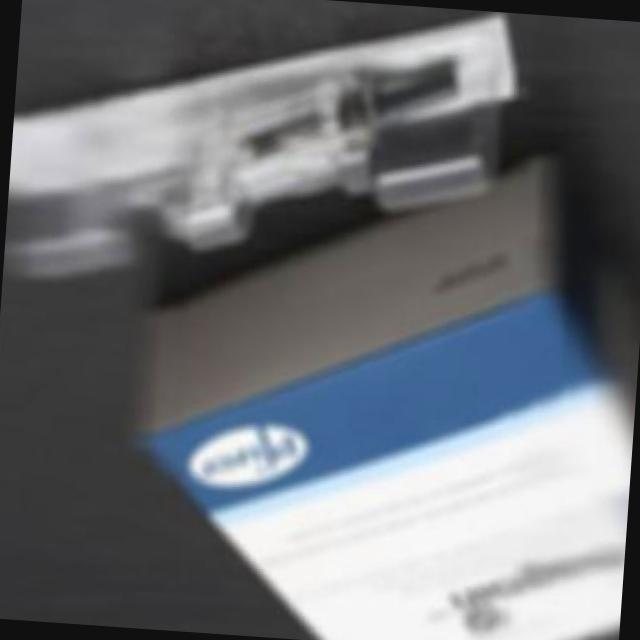box: (117, 130, 640, 640)
